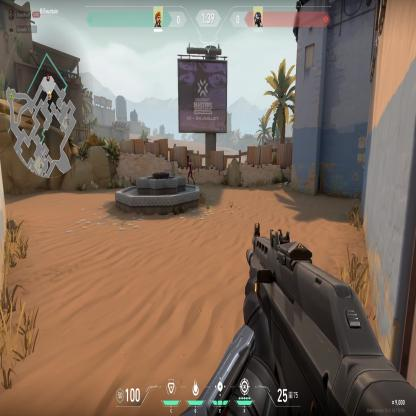enemy: (186, 158, 196, 185)
